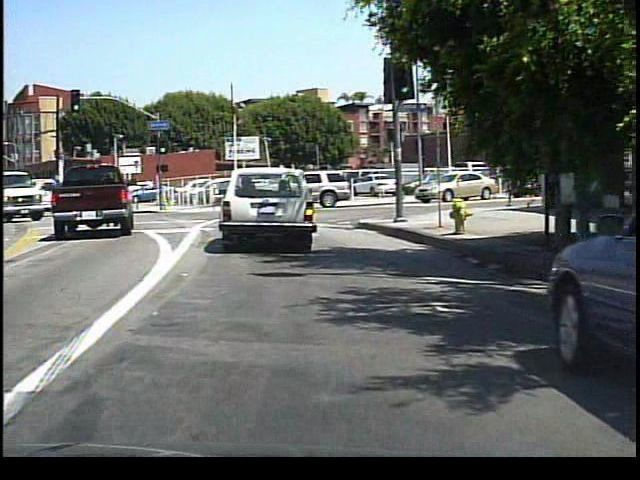person: (393, 165, 411, 203)
